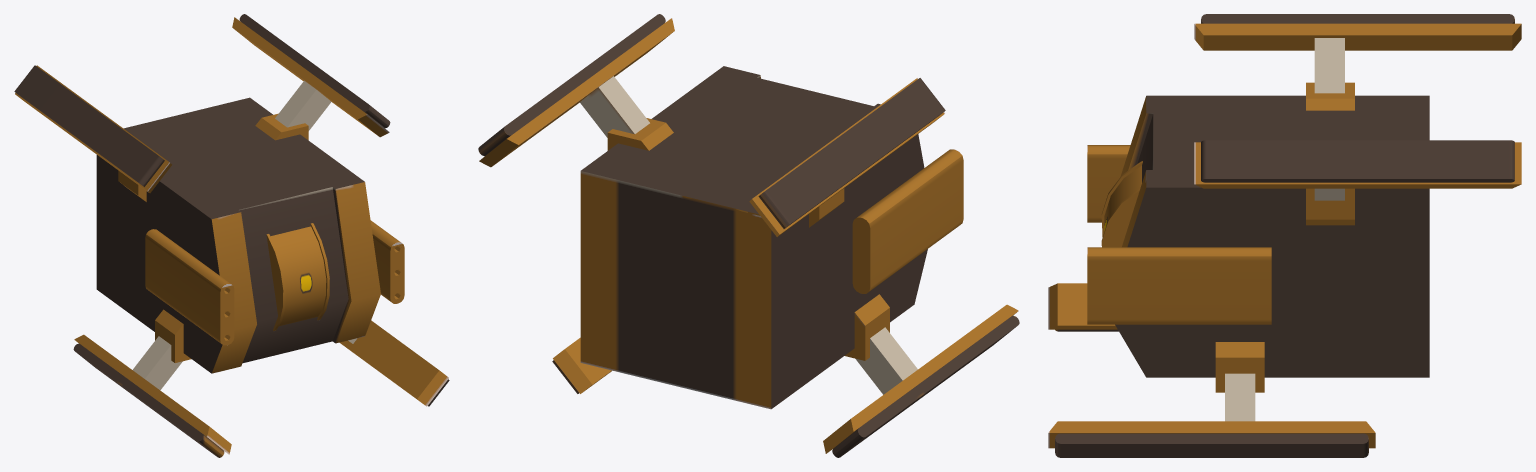
File: Boss1_Model.fbx
3 views of the same model, side by side, from view 1: azimuth 30°, elevation 25°; view 2: azimuth 150°, elevation 25°; view 3: azimuth 270°, elevation 25° (orthographic). The views are drawn at different scales.
Visible parts, largest first — view 1: Body, R_Top_Tred, R_Gun, Eye, R_Bottom_Tred, L_Top_Tred, L_Bottom_Tred, L_Gun; view 2: Body, R_Top_Tred, R_Gun, R_Bottom_Tred, L_Top_Tred, L_Bottom_Tred; view 3: Body, L_Top_Tred, L_Gun, L_Bottom_Tred, R_Top_Tred, R_Gun, R_Bottom_Tred, Eye.
Boxes of the visible parts, <box> form: Body: <box>96,80,380,390</box>; R_Top_Tred: <box>14,65,171,193</box>; R_Gun: <box>145,229,234,345</box>; Eye: <box>266,223,329,331</box>; R_Bottom_Tred: <box>73,334,231,457</box>; L_Top_Tred: <box>232,14,390,137</box>; L_Bottom_Tred: <box>339,320,449,406</box>; L_Gun: <box>370,220,404,303</box>; Body: <box>580,66,927,409</box>; R_Top_Tred: <box>749,78,945,236</box>; R_Gun: <box>852,149,963,293</box>; R_Bottom_Tred: <box>823,304,1019,457</box>; L_Top_Tred: <box>478,14,674,167</box>; L_Bottom_Tred: <box>552,337,611,393</box>; Body: <box>1115,38,1429,421</box>; L_Top_Tred: <box>1194,140,1521,188</box>; L_Gun: <box>1087,247,1271,324</box>; L_Bottom_Tred: <box>1048,421,1375,457</box>; R_Top_Tred: <box>1194,14,1521,50</box>; R_Gun: <box>1087,145,1130,222</box>; R_Bottom_Tred: <box>1048,283,1118,331</box>; Eye: <box>1101,161,1142,247</box>.
Bounding box in the file's own units: 3200 × 3145 × 4246.
